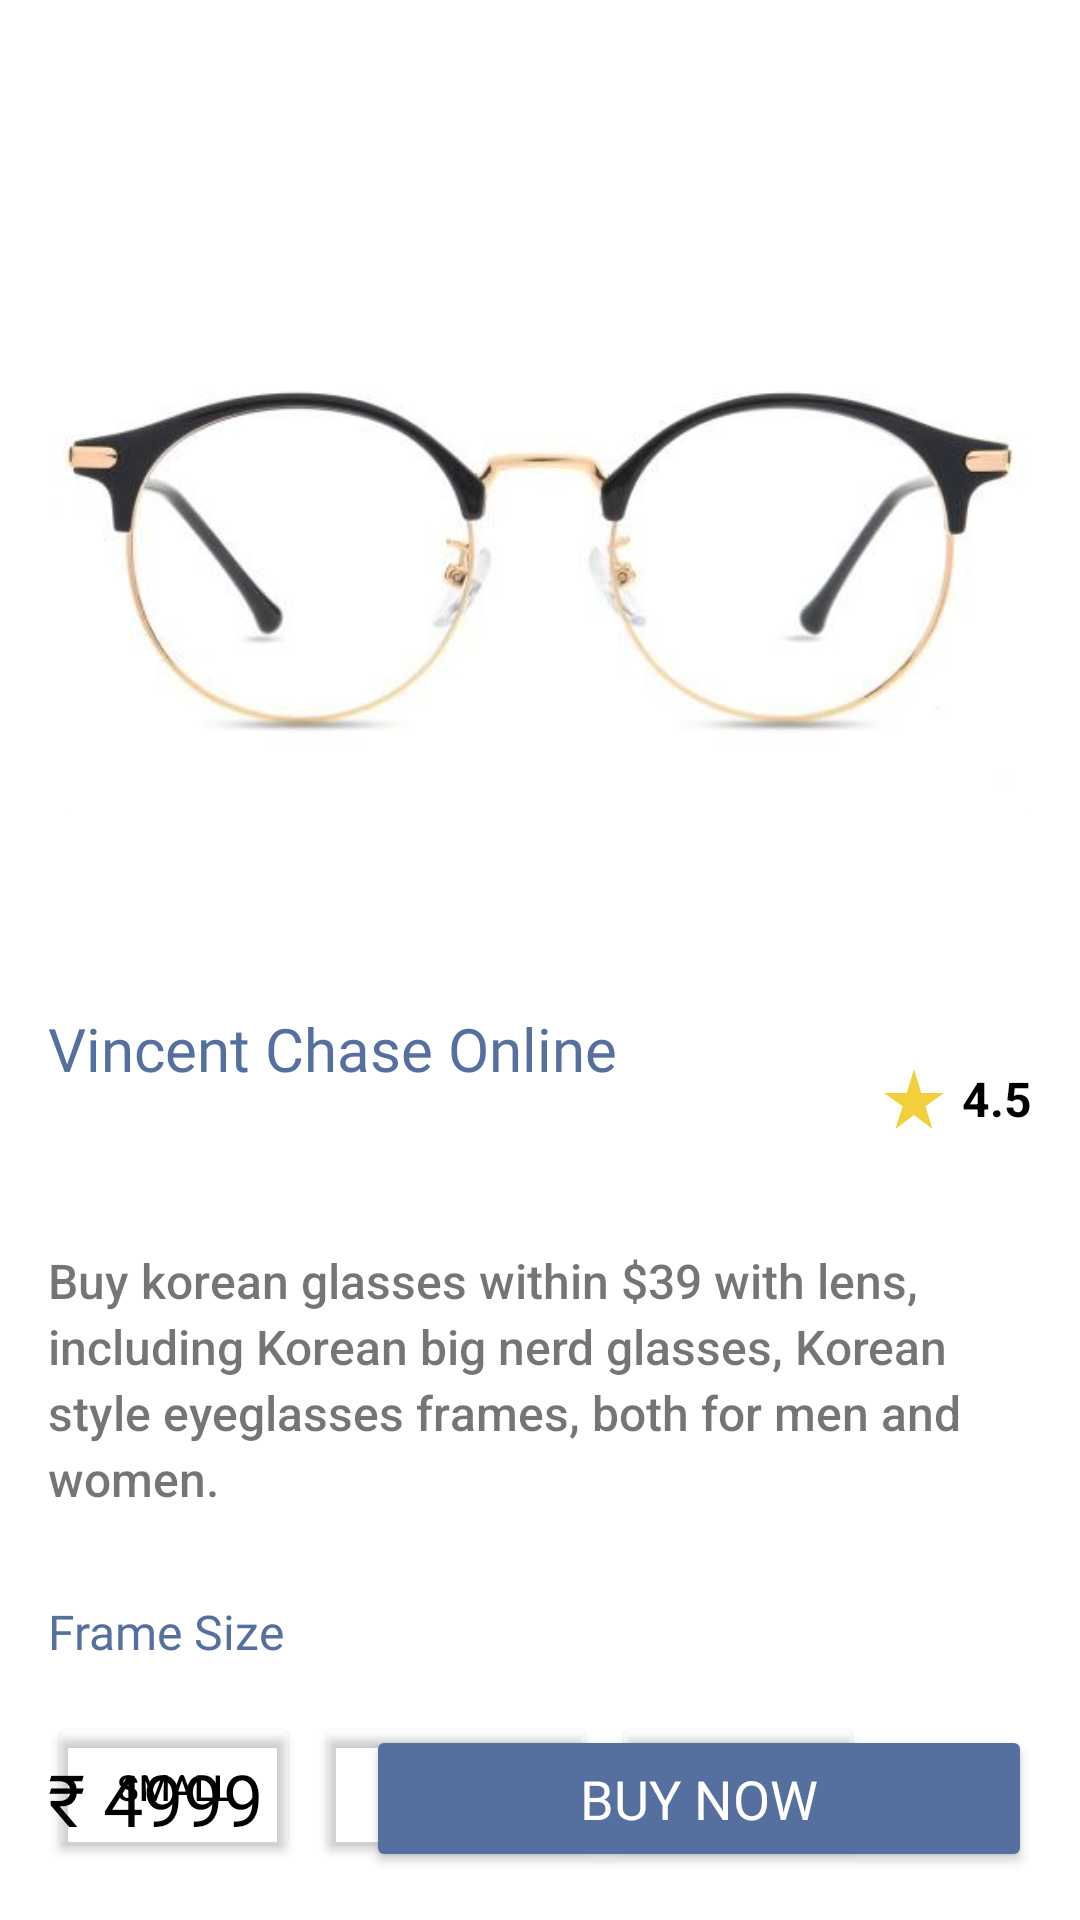

Icon bounding boxes for this 1080px x 1920px phone screenshot, format (x1, y1, x2, y2):
star rate: (884, 1069, 944, 1129)
